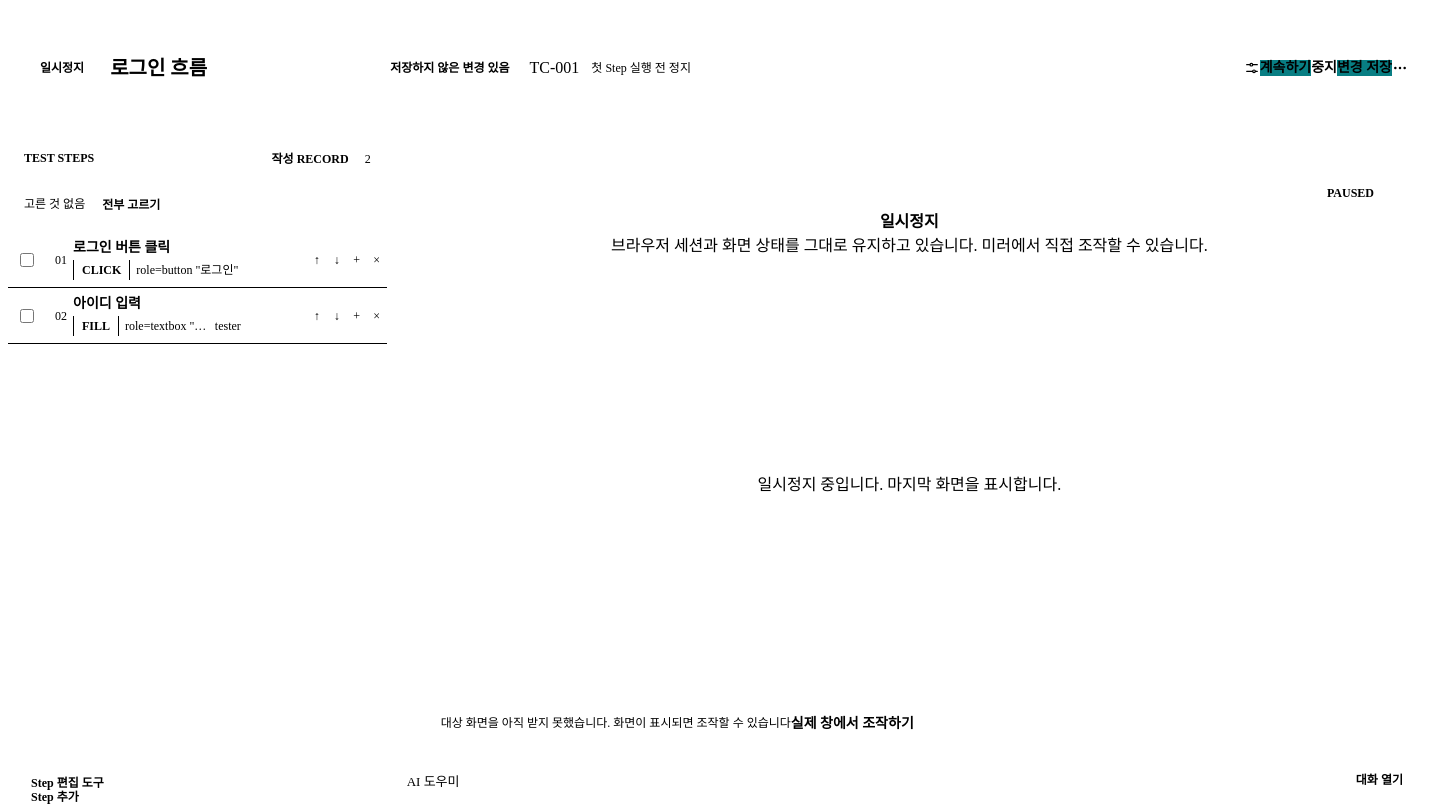
UC-011-6 — 이름을 비우면 저장을 거절하고 그 자리에서 말한다 › 이름이 있는 테스트에서 이름을 지우면 저장이 잠기고 이유가 붙는다 (FR-366)
Clear the field named "테스트 이름" at point(243, 68), box [104,53,382,83]
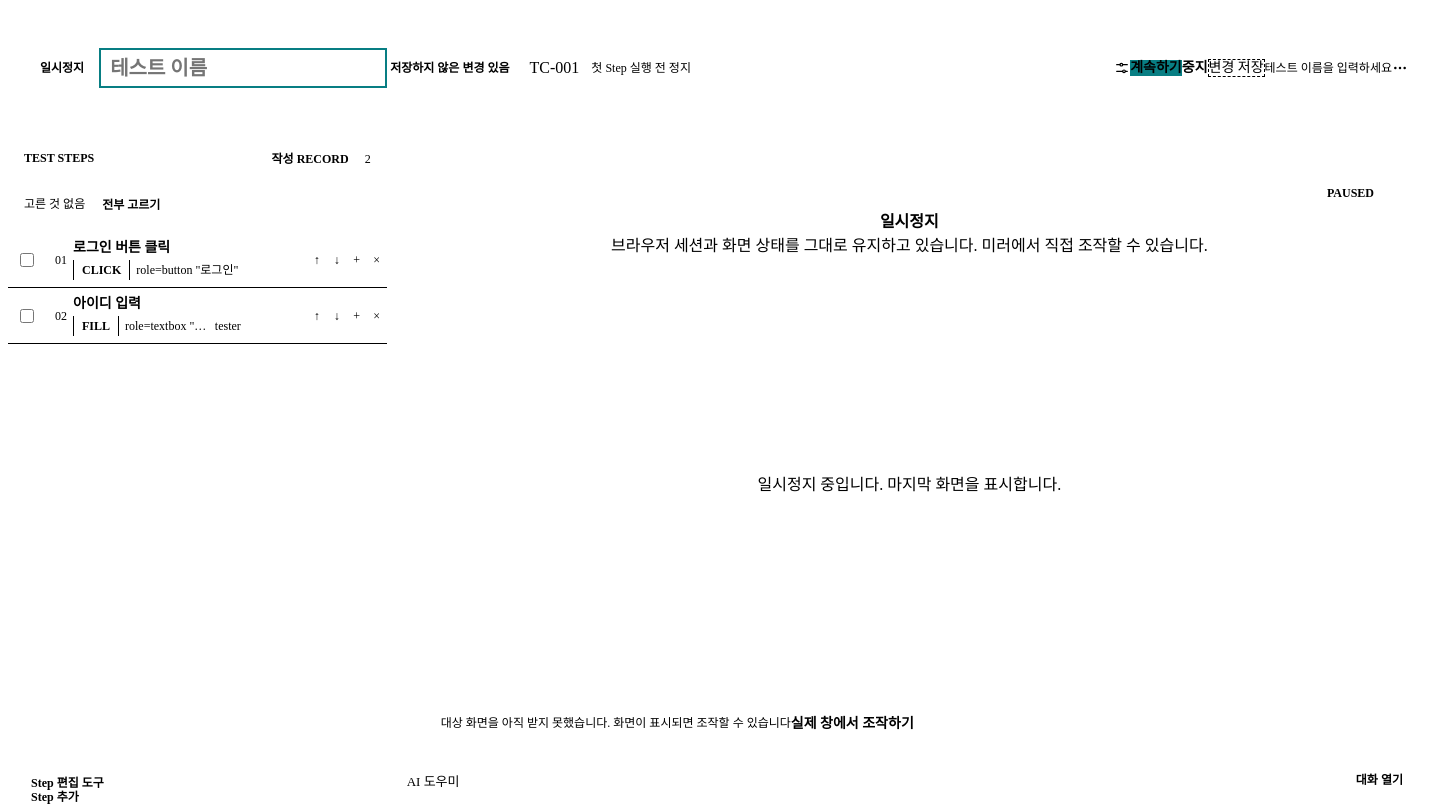
Expected: the button "변경 저장" is disabled, [1208,59,1264,77]
Expected: the text "테스트 이름을 입력하세요" is shown, [1264,60,1392,76]
